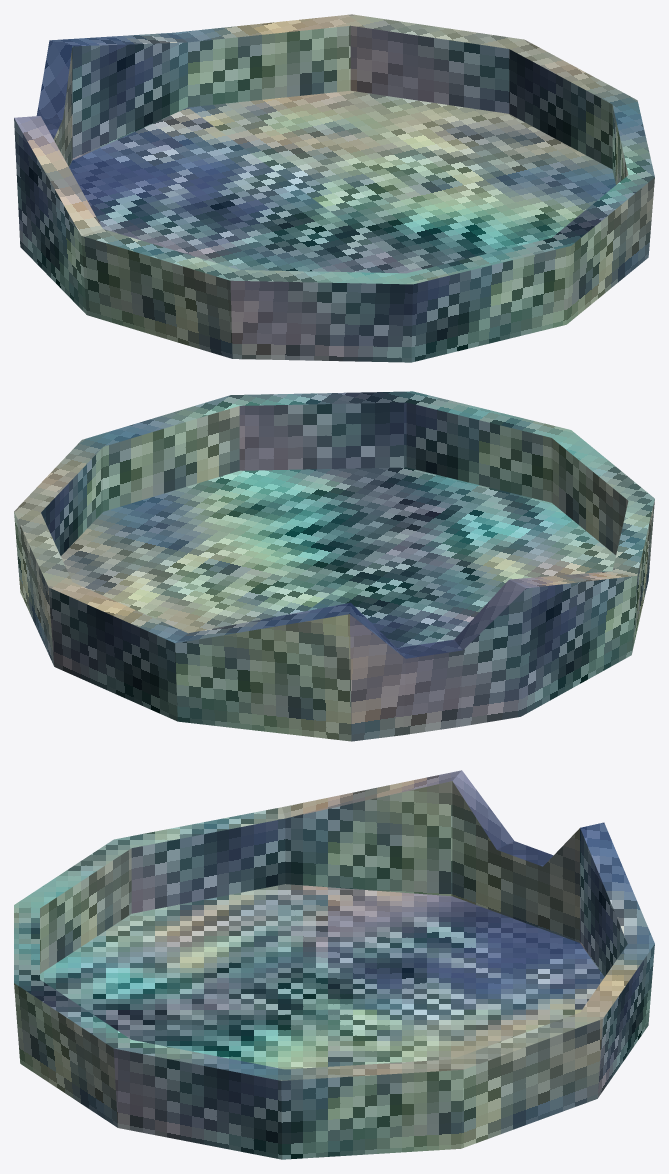
The model's file is ashtray.glb.
3 renders of one model, top to bottom at view 1: azimuth 30°, elevation 25°; view 2: azimuth 150°, elevation 25°; view 3: azimuth 270°, elevation 25°, orthographic.
Parts seen in each view (by area): view 1: ashtray; view 2: ashtray; view 3: ashtray.
Boxes of the visible parts, left/top/right/bottom form: ashtray: left=14, top=14, right=654, bottom=362; ashtray: left=14, top=391, right=654, bottom=741; ashtray: left=14, top=770, right=654, bottom=1159.
Bounding box in the file's own units: 0.4752 × 0.1117 × 0.4703.
Materials: 1 (1 with a texture image).
